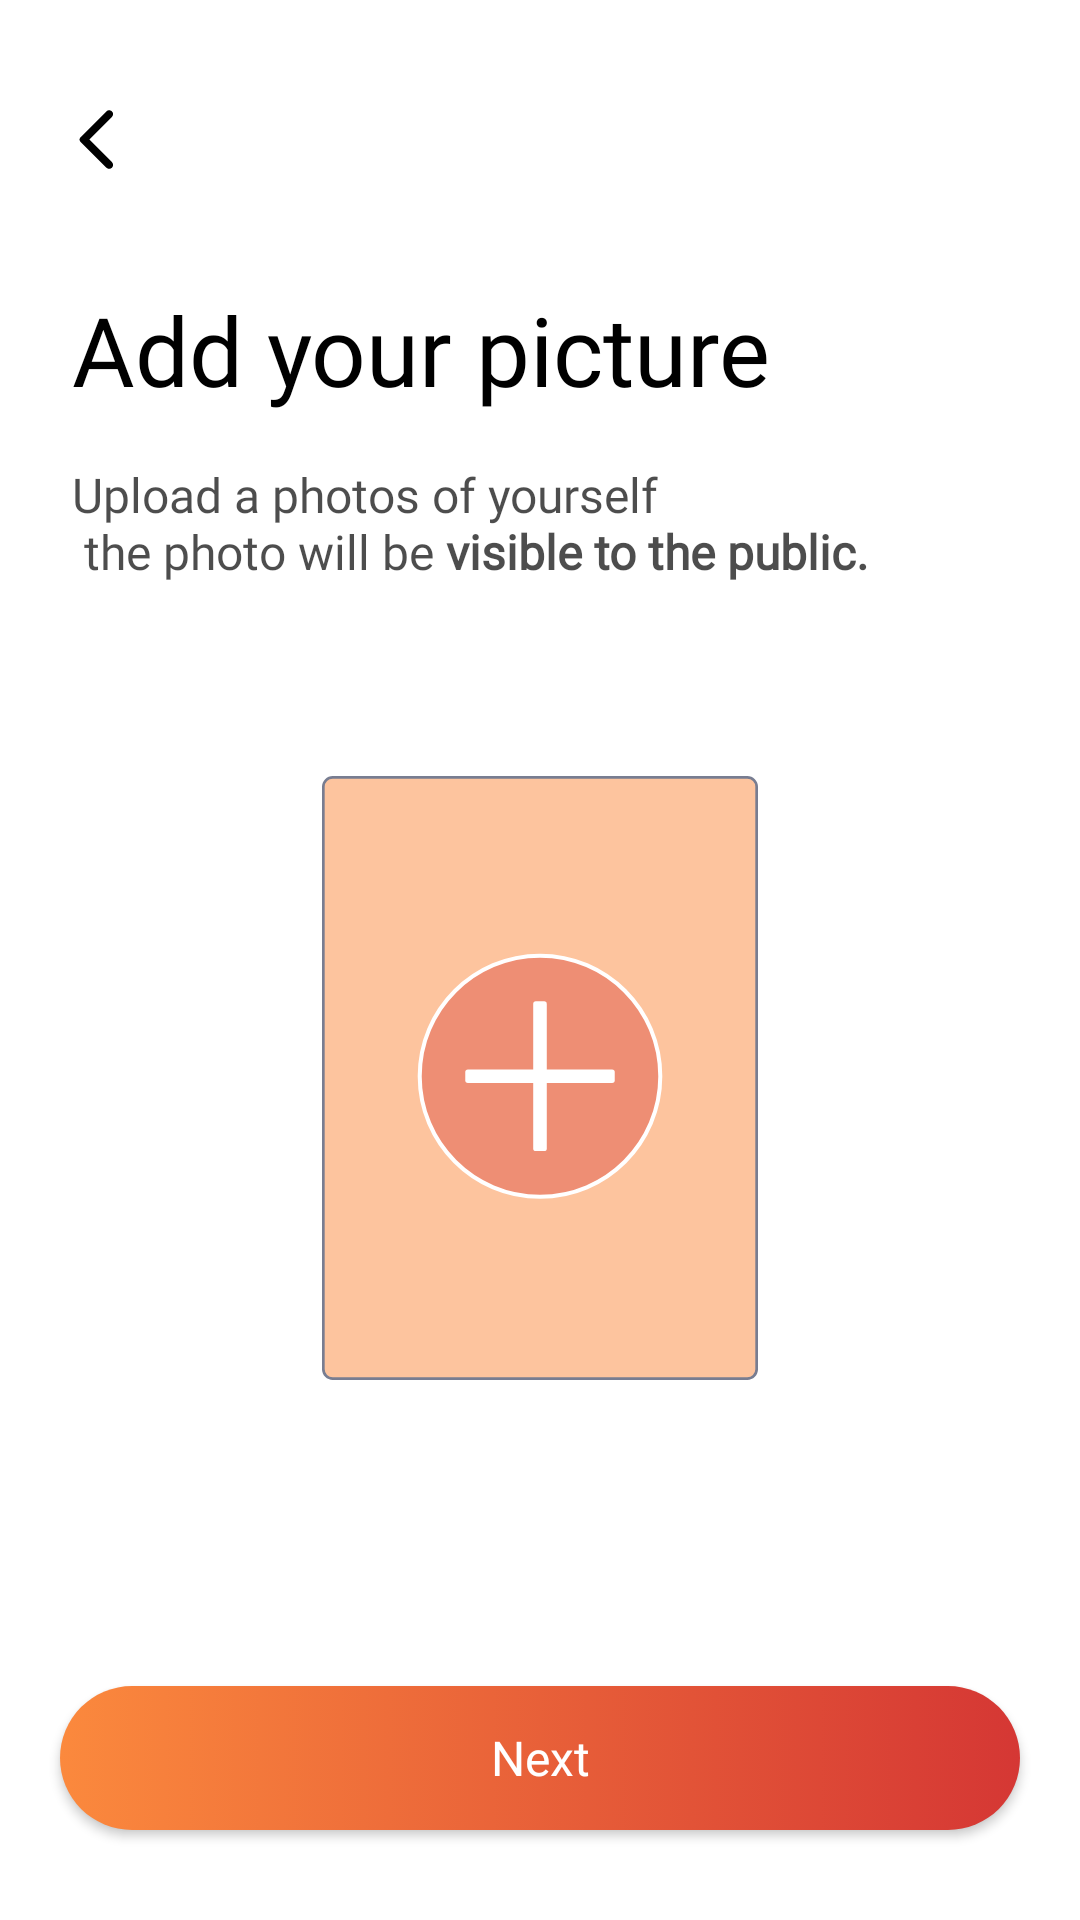

Screen size 1080w x 1920h. Icon name, then its box in pixels as bbox=[x1, y1, x2, y2]:
arrow back: bbox=[79, 110, 113, 169]
